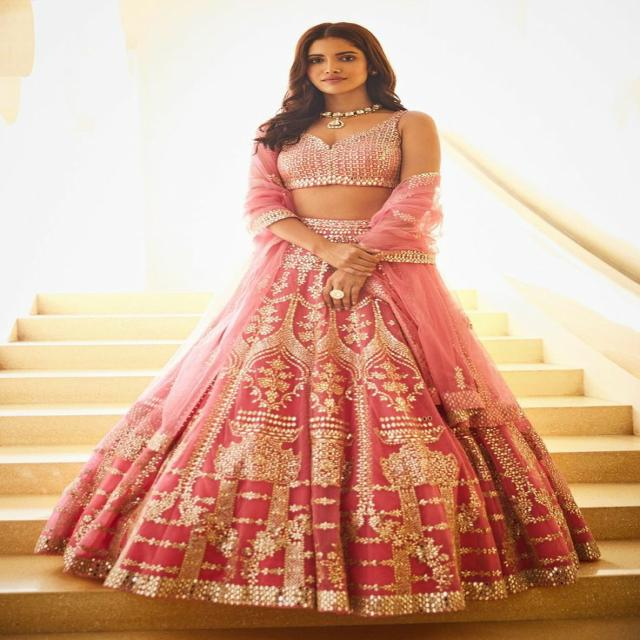female-dress: (73, 110, 591, 602), (216, 104, 466, 209)
